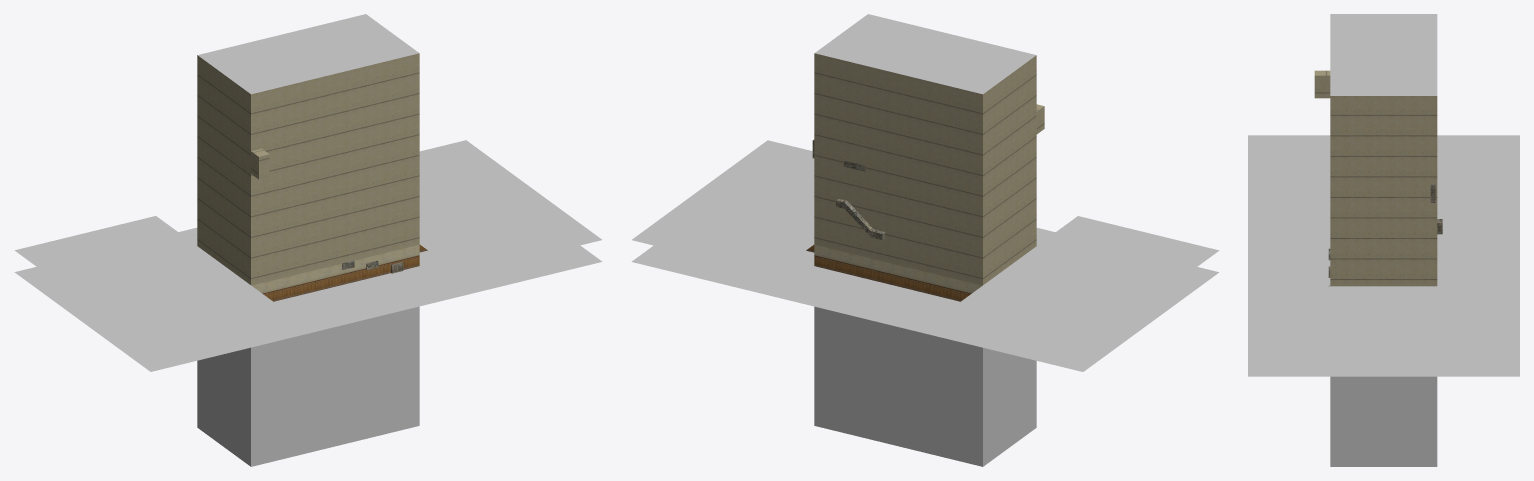
The model's file is map.obj.
3 views of the same model, side by side, from view 1: azimuth 30°, elevation 25°; view 2: azimuth 150°, elevation 25°; view 3: azimuth 270°, elevation 25° (orthographic).
Parts seen in each view (by area): view 1: Plane, Plane.001; view 2: Plane, Plane.001, Cube; view 3: Plane, Plane.001.
Part boxes in pixels (x1,y1,x2,y2): Plane: (14,140,602,466); Plane.001: (197,14,427,301); Plane: (631,140,1219,466); Plane.001: (806,14,1044,301); Cube: (812,139,885,240); Plane: (1248,135,1519,466); Plane.001: (1314,14,1437,286).
Size of the model in its own units: 56.4 by 44.43 by 29.49.
